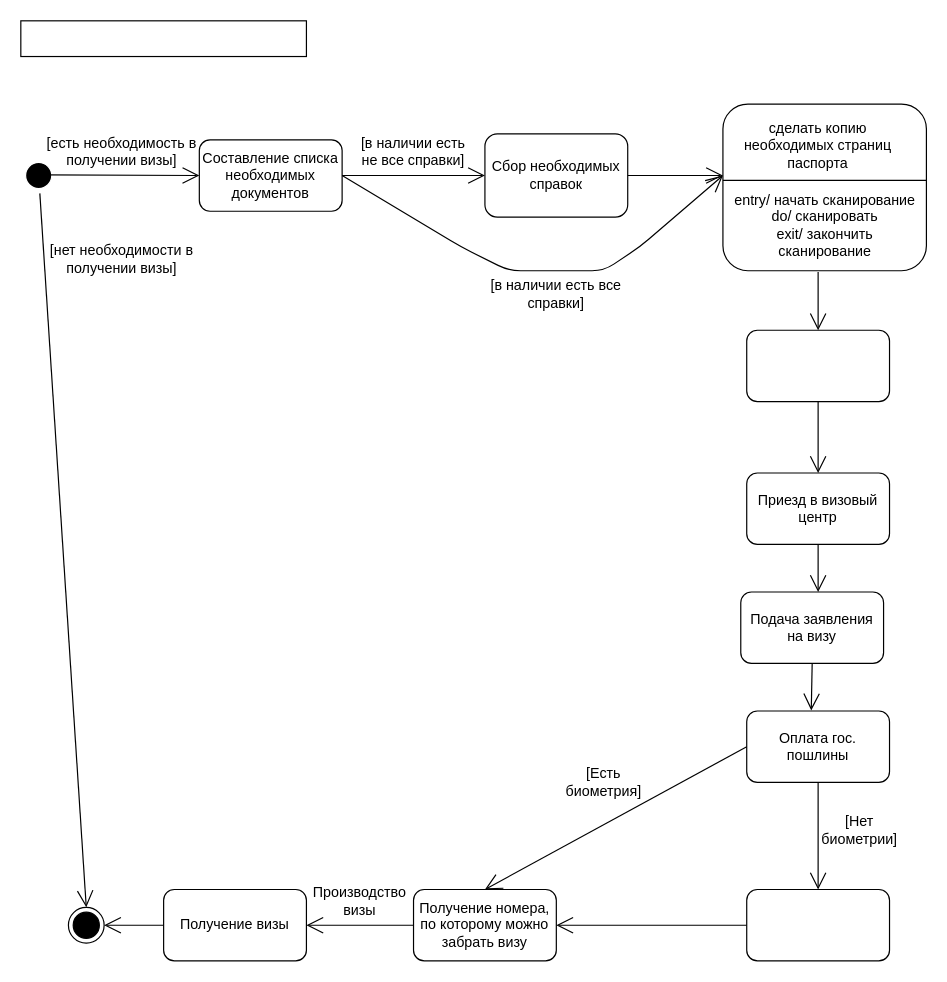
This 947x982 diagram has some shape labels left out. The shapes that lost their labels are listed below. From the top down, each one's box as (x1, y1, x2, y2) in pixels, then its label:
(20, 20, 306, 57): < state machine > Система выдачи виз
(746, 329, 890, 402): Создание фотографий для визы
(746, 888, 890, 961): Сдача биометрии
